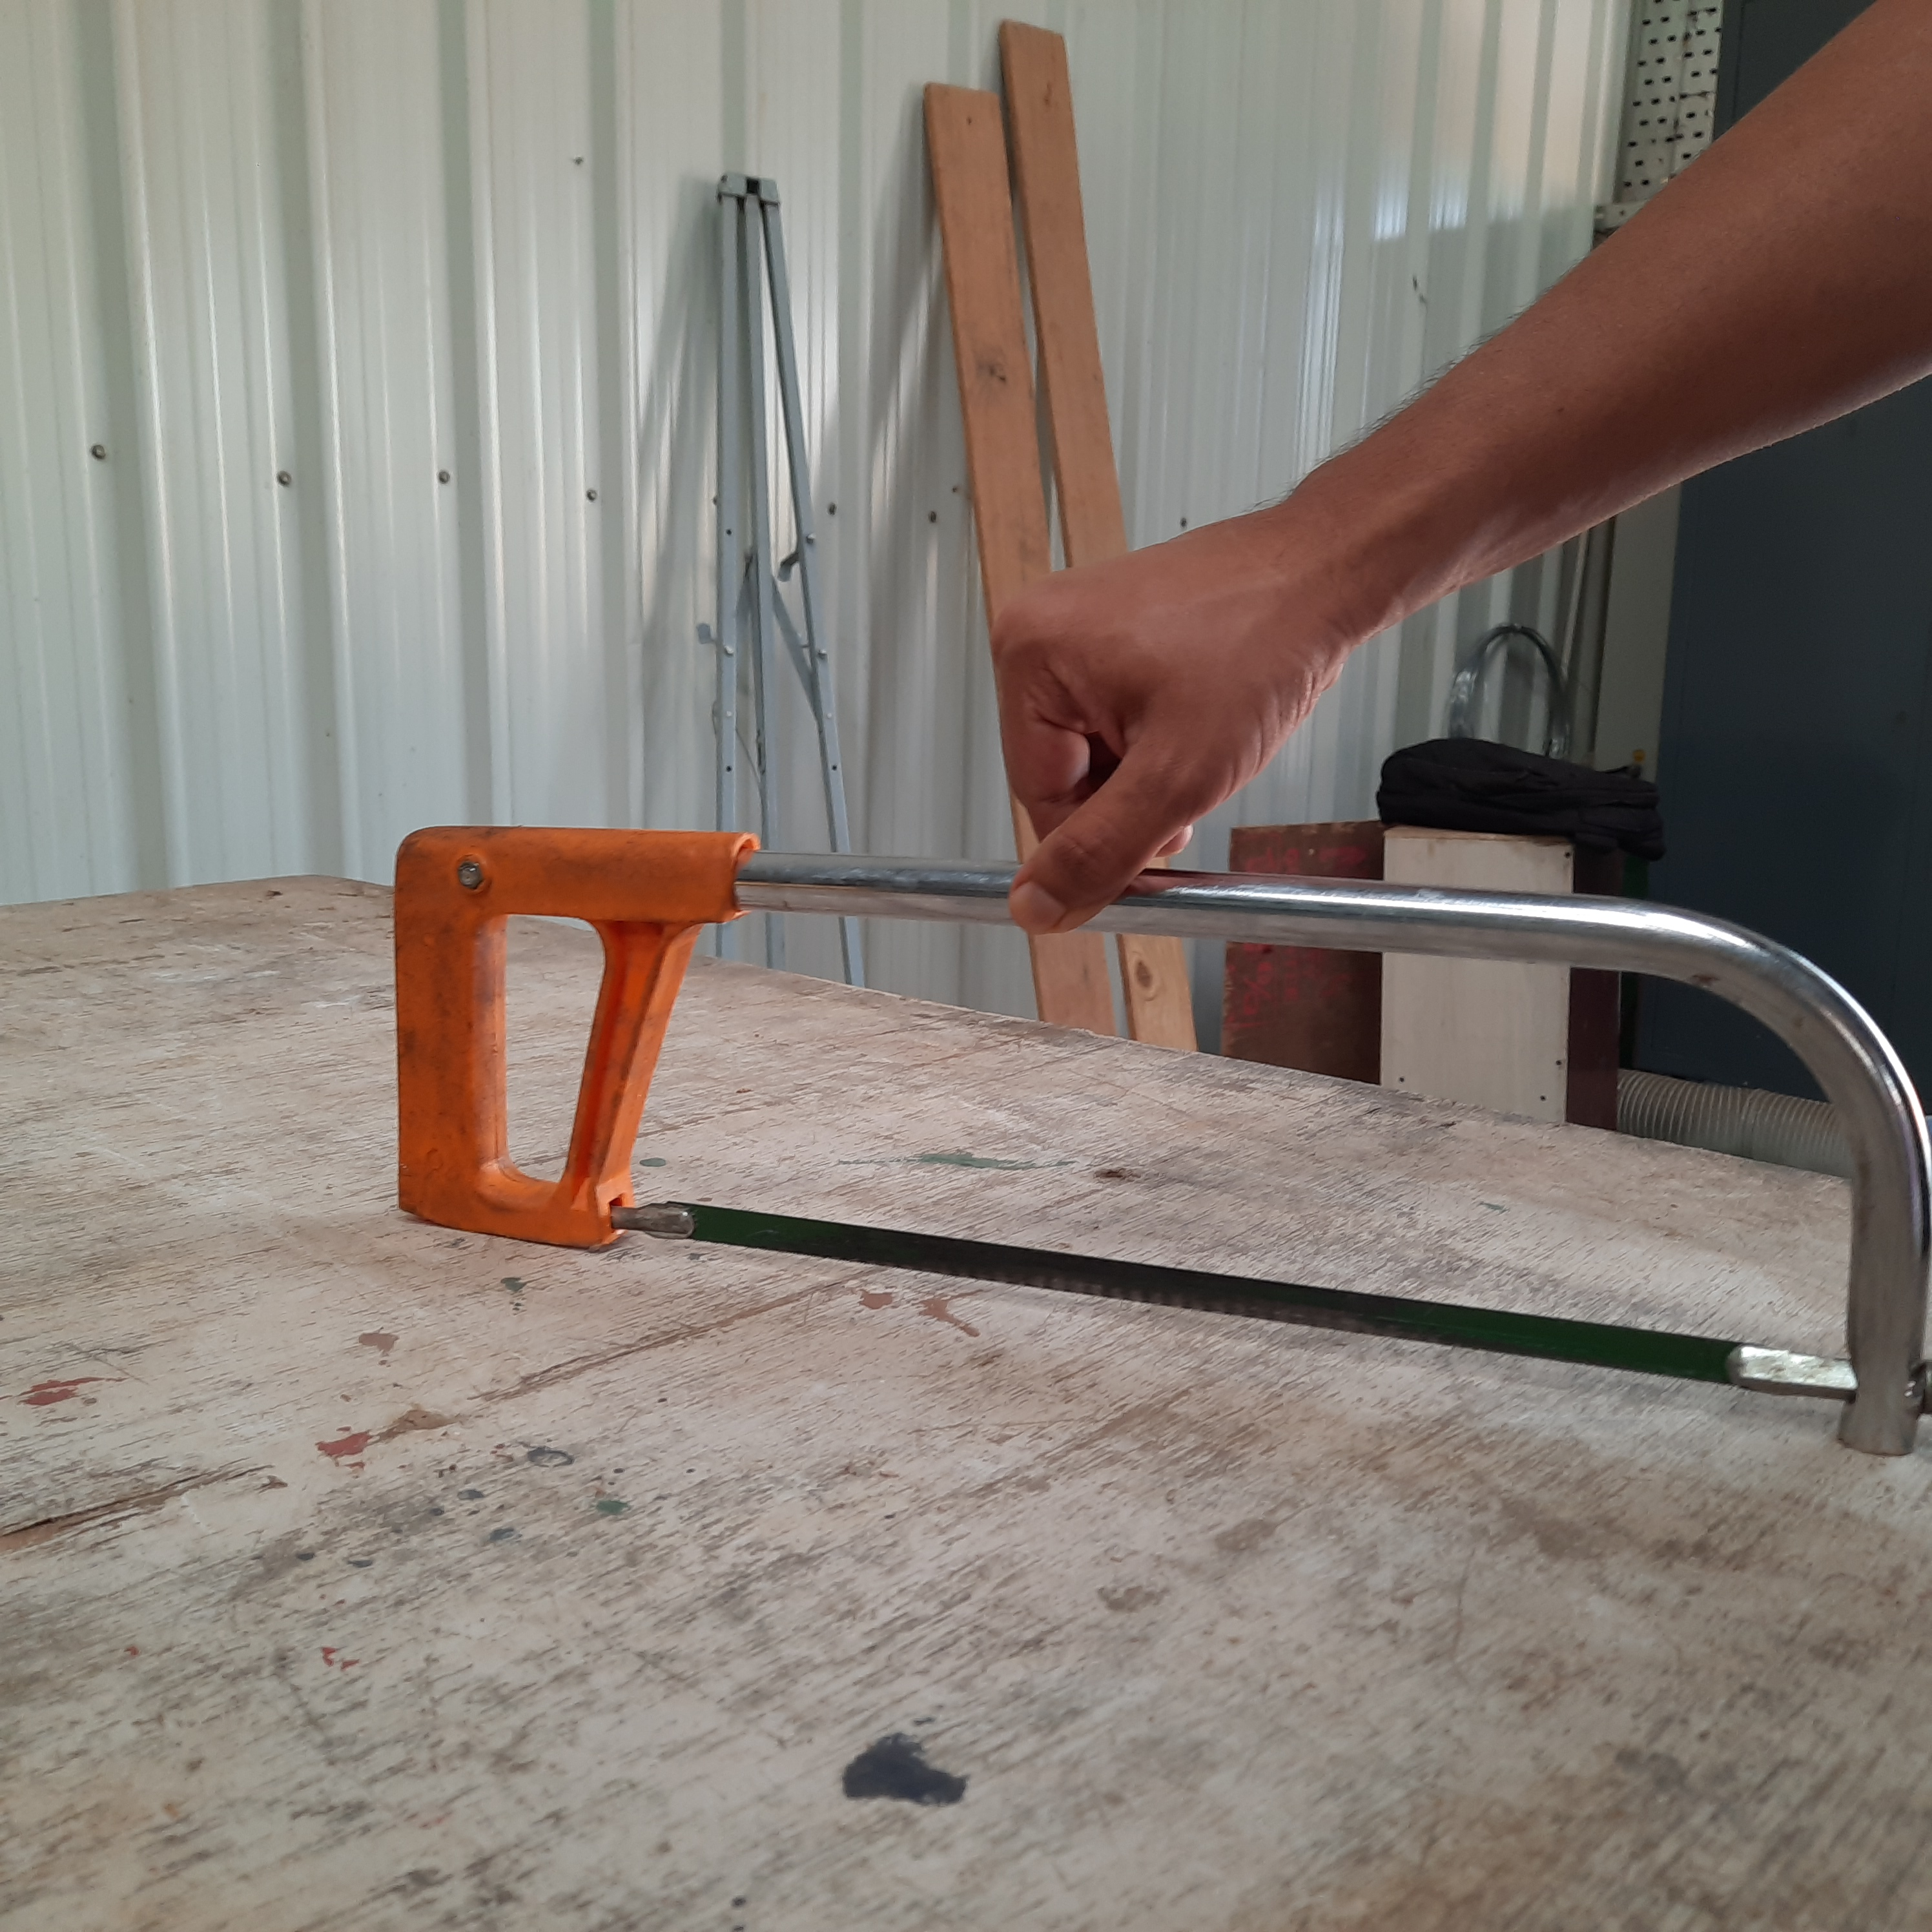Hexaframe: (366, 778, 1932, 1484)
